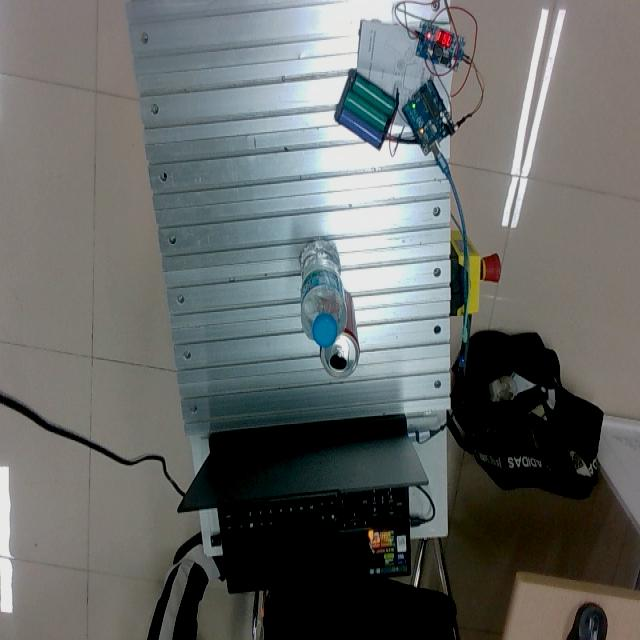coca: (320, 288, 361, 380)
lavie: (300, 240, 348, 349)
